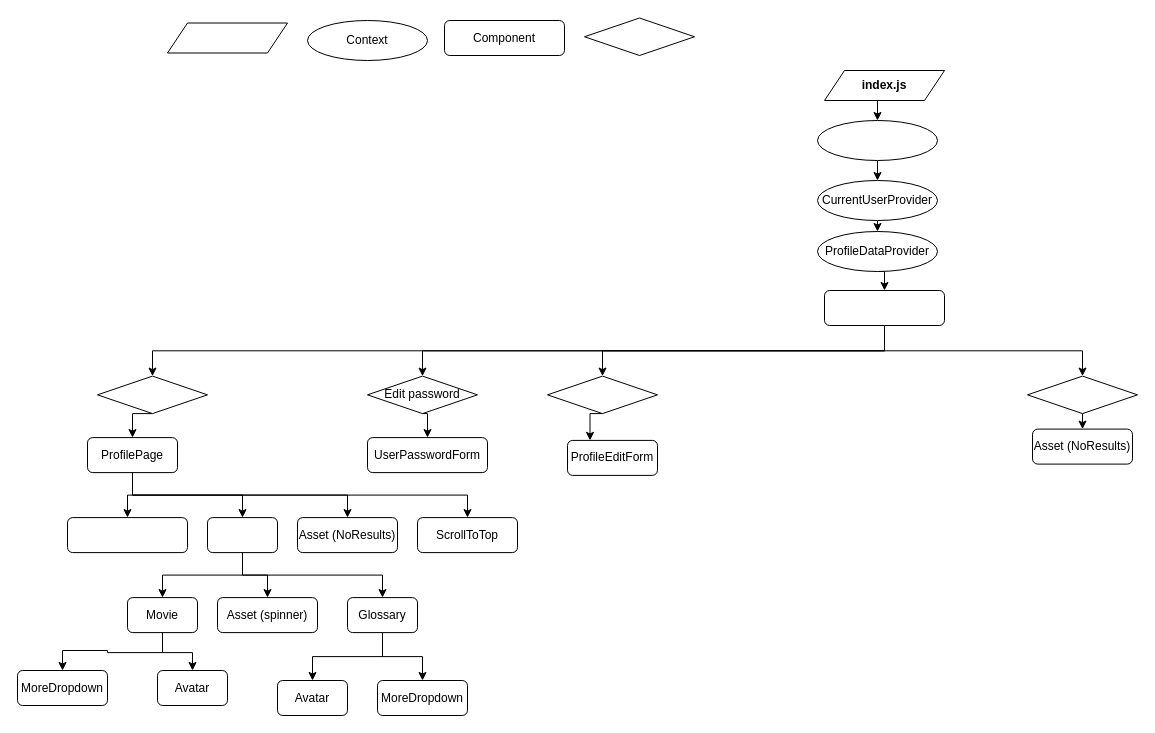
Image size: 1155x733. Some labels were removed from this diagram. Here are the shapes that lost their labels. From the top down, the centre of each, then its label:
At point 227,37: "Key".
At point 639,36: "Route".
At point 877,140: "AlertProvider".
At point 884,308: "App".
At point 152,394: "Profile".
At point 602,394: "Edit profile".
At point 1082,394: "Page not found".
At point 127,535: "ProfileEditDropdown".
At point 242,535: "InfiniteScroll".
